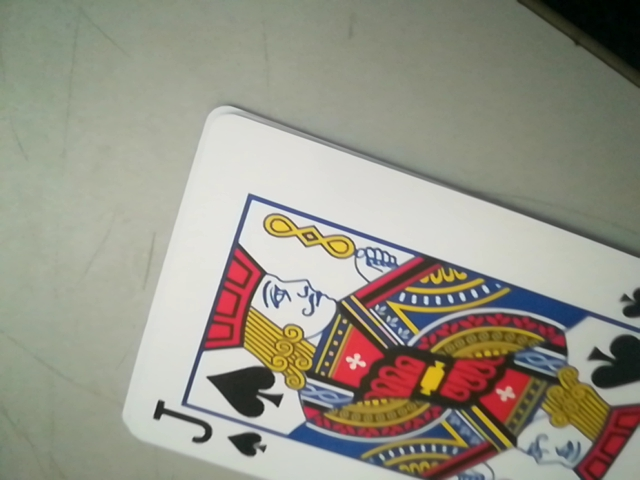ht j: (145, 405, 278, 459)
